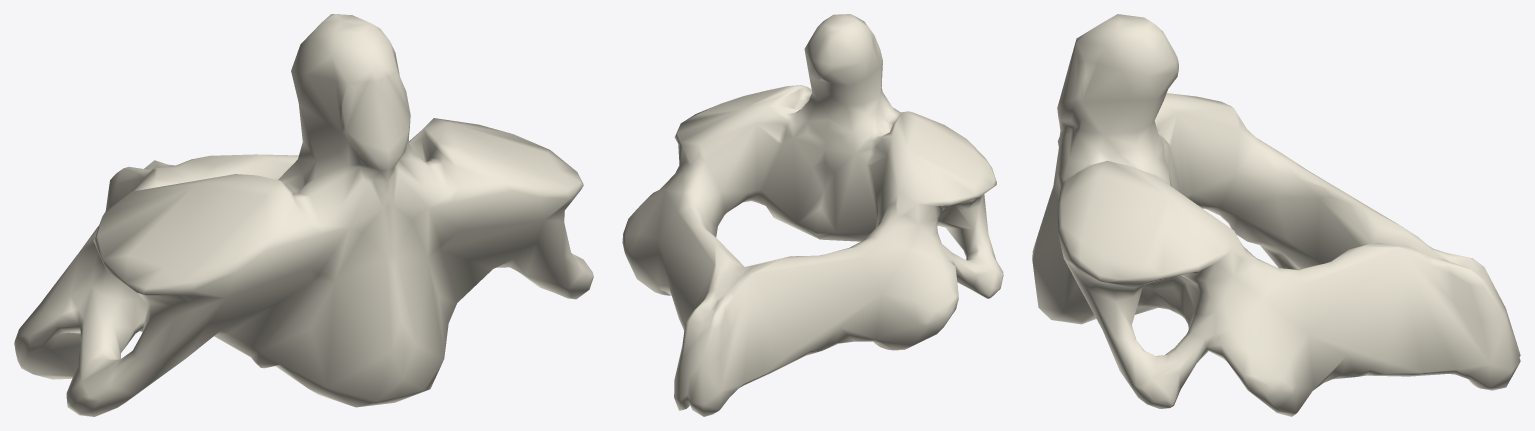
3 views of the same model, side by side, from view 1: azimuth 30°, elevation 25°; view 2: azimuth 150°, elevation 25°; view 3: azimuth 270°, elevation 25° (orthographic). The views are drawn at different scales.
Parts seen in each view (by area): view 1: ZA_fcd977845f4183e5; view 2: ZA_fcd977845f4183e5; view 3: ZA_fcd977845f4183e5.
Boxes of the visible parts, <box> form: ZA_fcd977845f4183e5: <box>14,14,593,416</box>; ZA_fcd977845f4183e5: <box>622,14,1003,416</box>; ZA_fcd977845f4183e5: <box>1032,14,1520,416</box>.
Size of the model in its own units: 0.0536 by 0.0429 by 0.0527.
